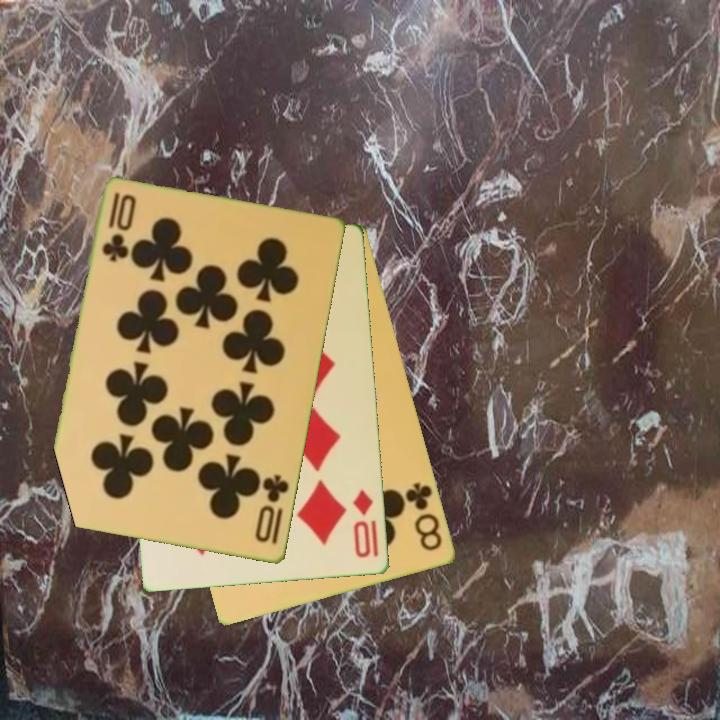10c: (252, 471, 292, 547), (99, 189, 138, 266)
10d: (350, 486, 377, 561)
8c: (402, 479, 446, 555)
